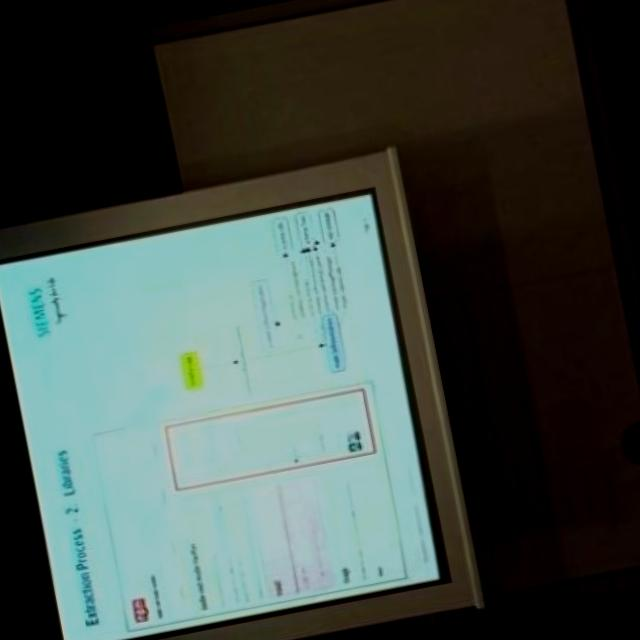Slide: (0, 194, 443, 640)
White-board: (153, 0, 640, 638)
